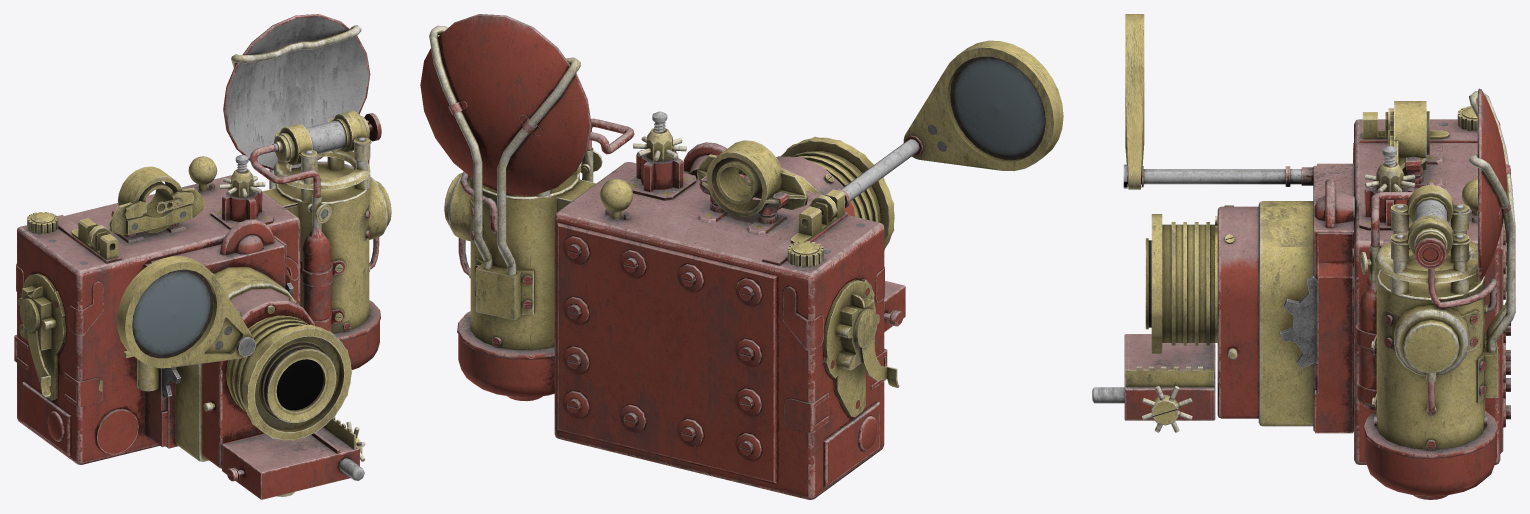
The model's file is steampunk_camera.glb.
The picture shows the model from 3 angles, left to right: view 1: azimuth 30°, elevation 25°; view 2: azimuth 150°, elevation 25°; view 3: azimuth 270°, elevation 25°; orthographic projection. The views are drawn at different scales.
Parts seen in each view (by area): view 1: Body, Mirror, Lense, LenseMag, HousingFront, Light_Base, LatchSide, Top_Deco, Top_Deco1, Light_Mount, Bottom_Block, Steam_tank (+5 smaller); view 2: Body, Mirror, LenseMag, Light_Base, LatchSide, Top_Deco1, Top_Deco, Lense, Brackets, Pressure_Guage, HousingFront, Steam_tank; view 3: HousingFront, Light_Base, Body, Lense, Outer_Brackets, Mirror, Light_Mount, LenseMag, Pressure_Guage, Top_Deco1, Bottom_Block, Top_Deco (+3 smaller).
Part boxes in pixels (left/top/right/bottom): Body: left=17, top=175, right=300, bottom=464; Mirror: left=223, top=14, right=370, bottom=189; Lense: left=226, top=315, right=352, bottom=440; LenseMag: left=117, top=256, right=256, bottom=368; HousingFront: left=175, top=267, right=314, bottom=468; Light_Base: left=262, top=113, right=381, bottom=369; LatchSide: left=18, top=273, right=70, bottom=455; Top_Deco: left=27, top=154, right=365, bottom=461; Top_Deco1: left=27, top=154, right=274, bottom=259; Light_Mount: left=273, top=110, right=371, bottom=202; Bottom_Block: left=223, top=417, right=364, bottom=499; Steam_tank: left=250, top=141, right=345, bottom=331; Body: left=554, top=162, right=884, bottom=499; Mirror: left=420, top=14, right=591, bottom=320; LenseMag: left=836, top=40, right=1063, bottom=207; Light_Base: left=457, top=171, right=596, bottom=401; LatchSide: left=823, top=279, right=899, bottom=487; Top_Deco1: left=599, top=111, right=844, bottom=266; Top_Deco: left=601, top=111, right=843, bottom=267; Lense: left=781, top=136, right=894, bottom=250; Brackets: left=783, top=266, right=887, bottom=433; Pressure_Guage: left=444, top=172, right=483, bottom=278; HousingFront: left=745, top=156, right=855, bottom=216; Steam_tank: left=580, top=118, right=634, bottom=182; HousingFront: left=1215, top=201, right=1313, bottom=426; Light_Base: left=1363, top=238, right=1498, bottom=499; Body: left=1313, top=119, right=1510, bottom=464; Lense: left=1145, top=214, right=1217, bottom=353; Outer_Brackets: left=1315, top=163, right=1354, bottom=433; Mirror: left=1469, top=88, right=1515, bottom=402; Light_Mount: left=1374, top=184, right=1478, bottom=294; LenseMag: left=1123, top=14, right=1313, bottom=189; Pressure_Guage: left=1380, top=305, right=1482, bottom=416; Top_Deco1: left=1316, top=101, right=1477, bottom=228; Bottom_Block: left=1092, top=334, right=1211, bottom=425; Top_Deco: left=1142, top=107, right=1477, bottom=432.
Size of the model in its own units: 0.3056 by 0.2539 by 0.2441.
3 materials, 3 textured.
